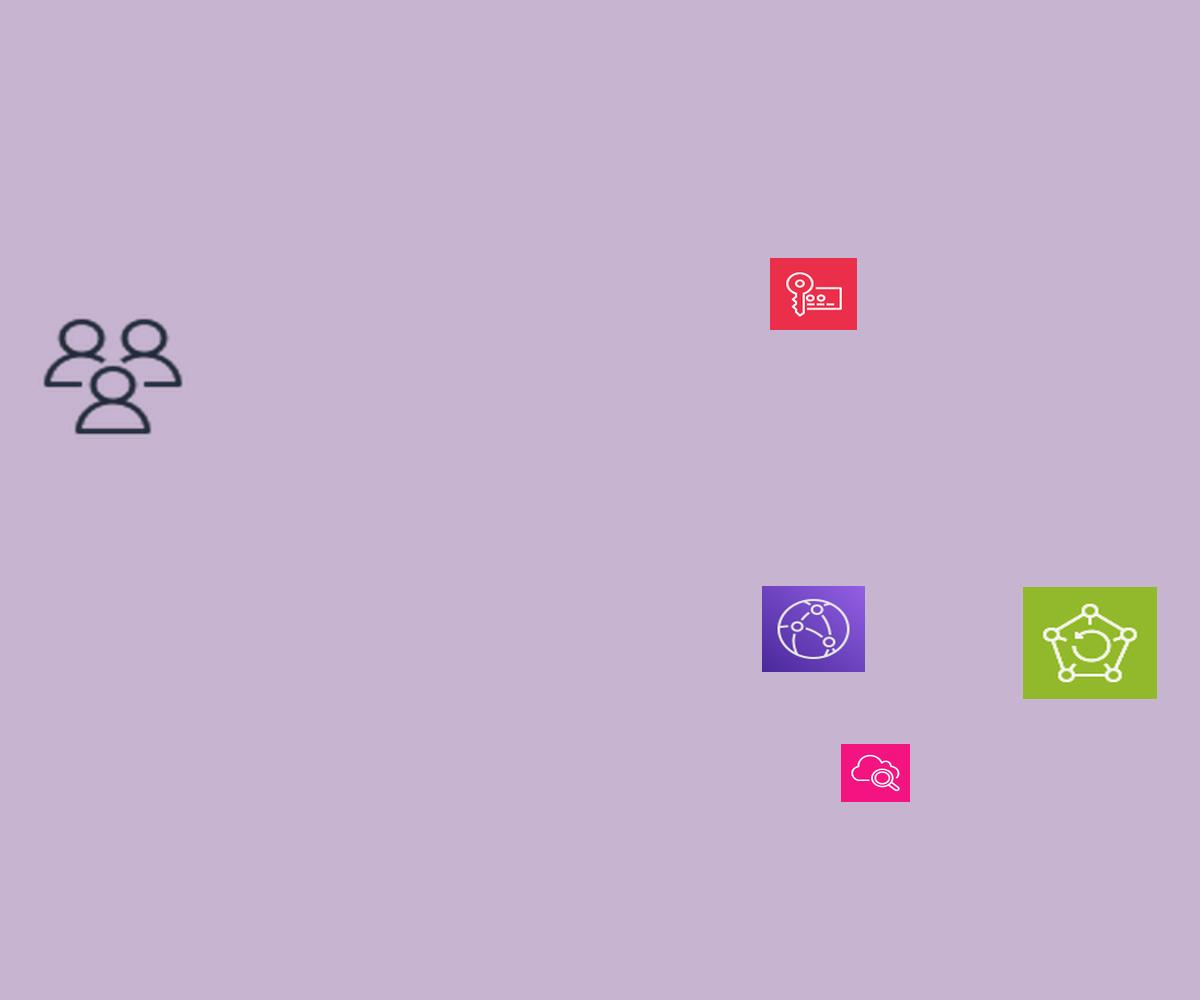AWS-Backup: (1023, 587, 1157, 699)
AWS-CloudFront: (762, 586, 865, 672)
AWS-CloudWatch: (841, 744, 910, 802)
AWS-Key-Management-Service: (770, 258, 857, 330)
AWS-Res_Users: (38, 314, 188, 439)
